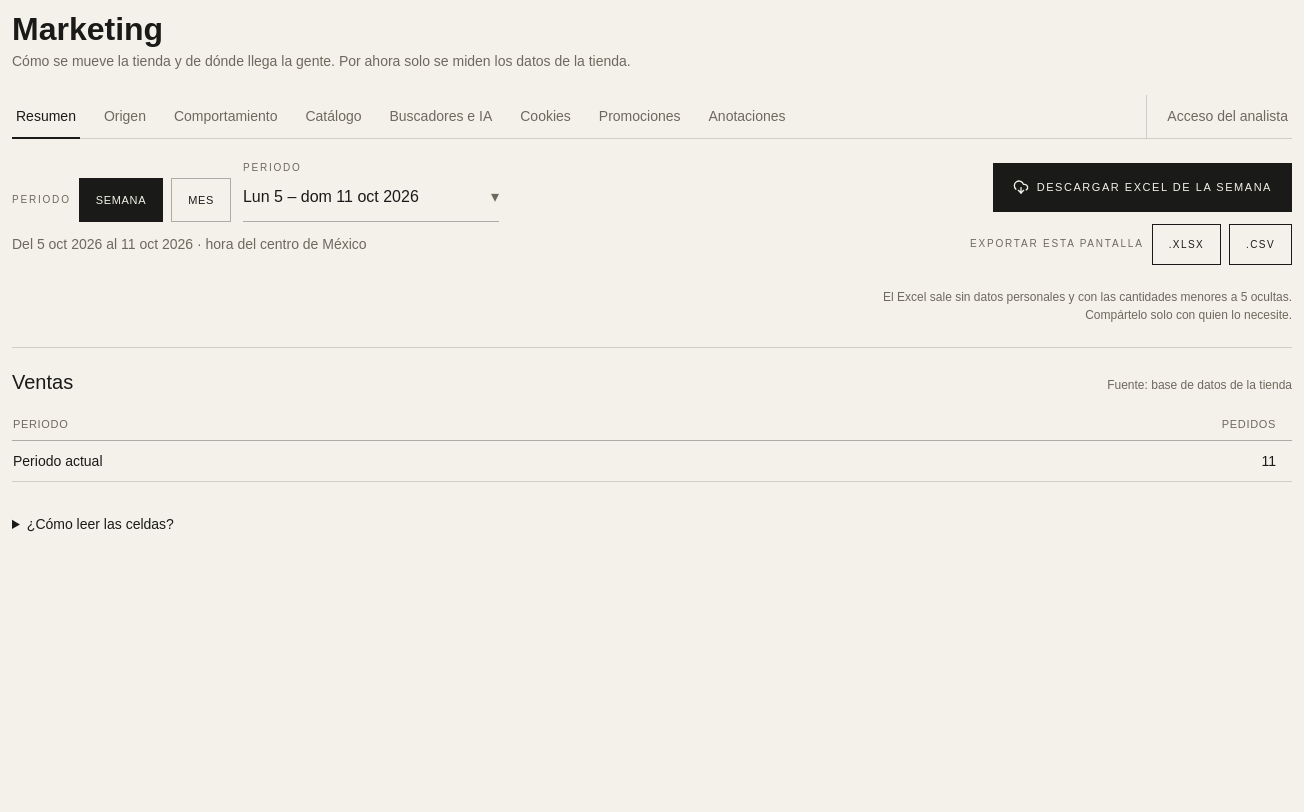
Scenario: UX-MKT-17 · «Acceso del analista» solo para súper-admin › con súper-admin: la pestaña existe y solo pide las llaves al abrirla
Expected: the element with test id "mkt-screen-a" is shown, [12,347,1292,550]
Click the tab "Acceso del analista" at (1219, 117), box [1146,95,1292,139]
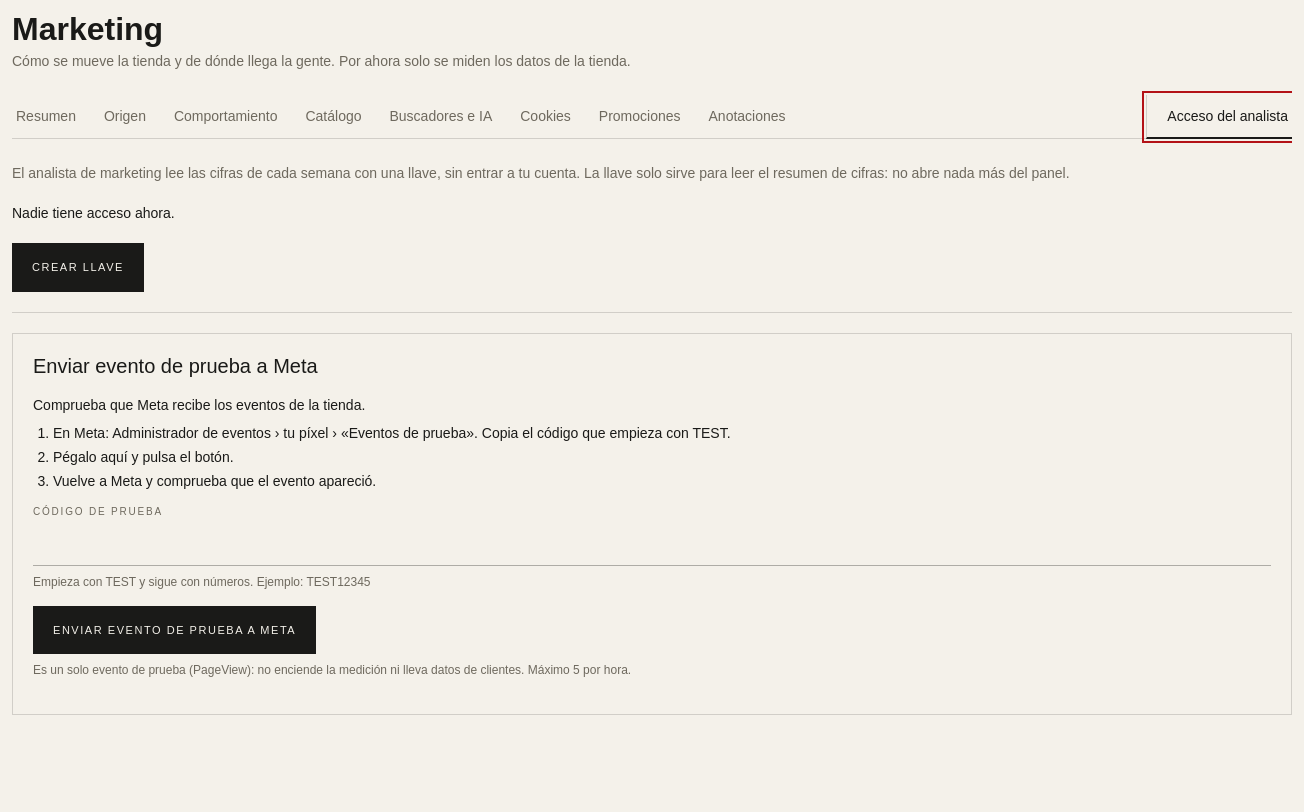
Expected: the text "Nadie tiene acceso ahora." is shown, [12,205,175,221]
